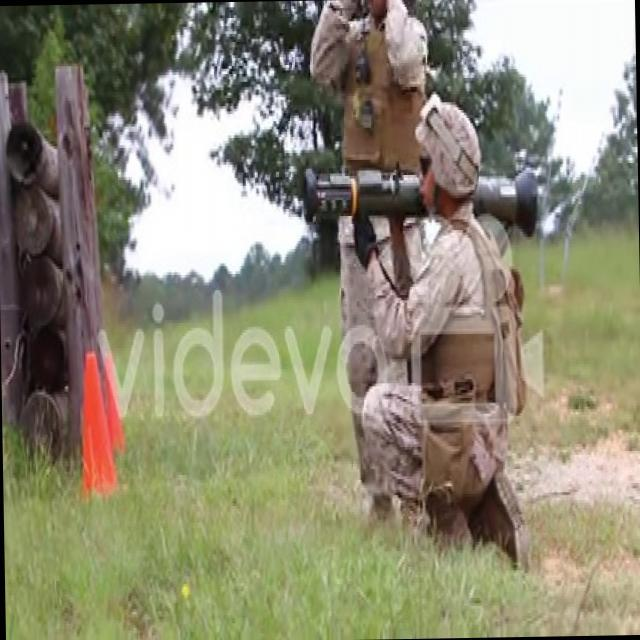rocket: (302, 165, 541, 239)
